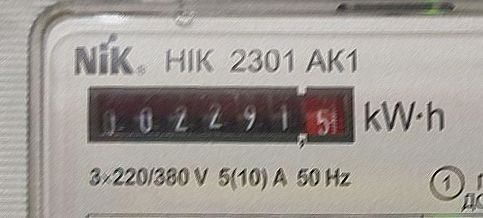0: (98, 105, 117, 134), (136, 104, 153, 133)
1: (275, 99, 290, 133)
2: (171, 103, 188, 132), (206, 100, 221, 129)
5: (313, 105, 330, 135)
9: (240, 101, 257, 131)
screen: (81, 73, 360, 156)
